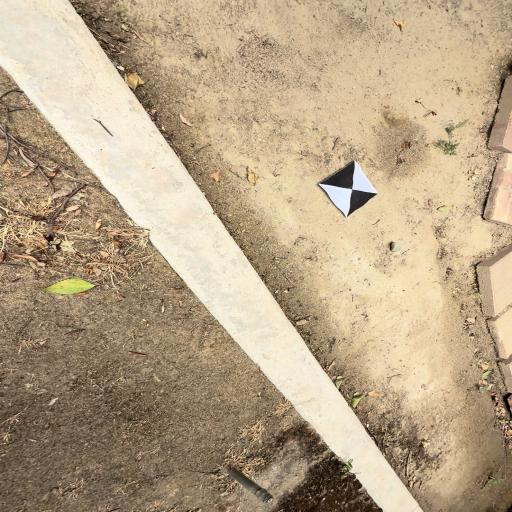target: (318, 160, 379, 216)
